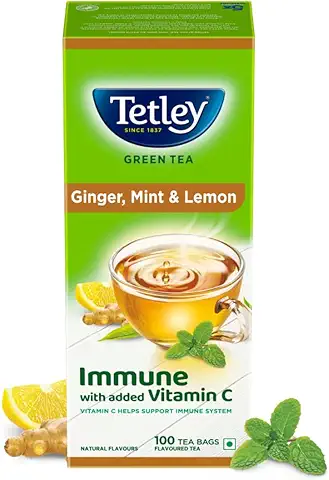Tea: (63, 1, 237, 466)
